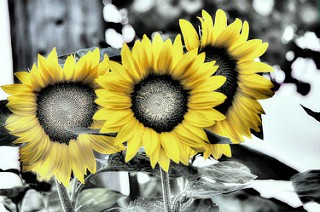flower: (90, 30, 230, 173), (1, 42, 124, 193), (175, 7, 279, 160)
